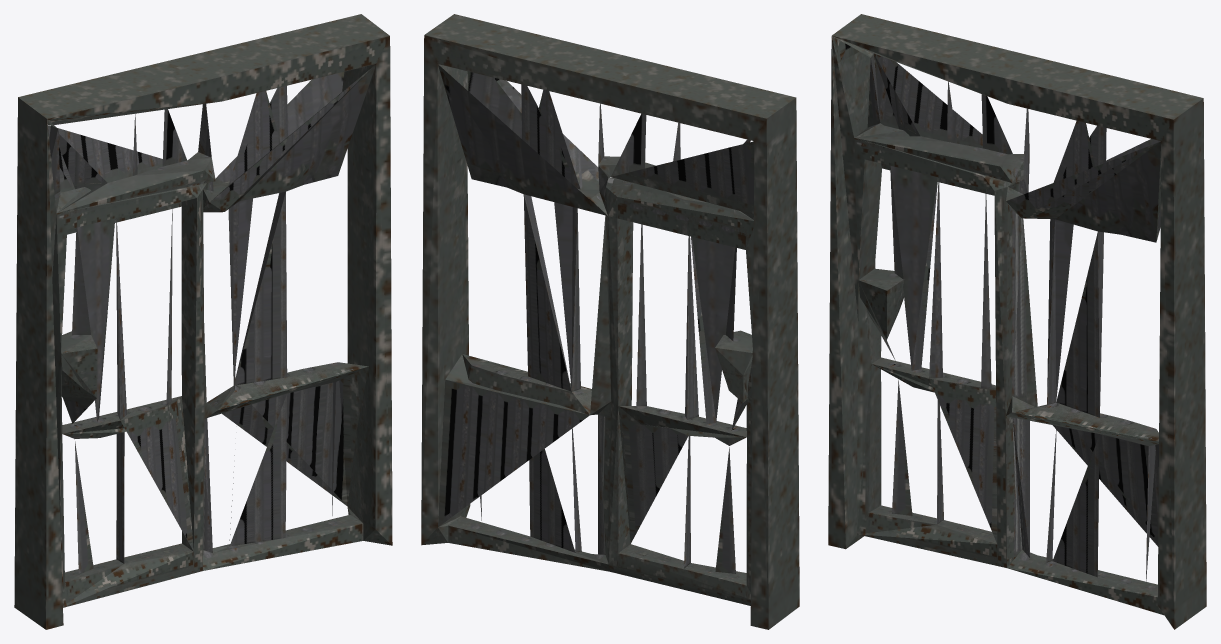
The model's file is Meshy_AI_model.glb.
3 views of the same model, side by side, from view 1: azimuth 30°, elevation 25°; view 2: azimuth 150°, elevation 25°; view 3: azimuth 330°, elevation 25° (orthographic).
Visible parts, largest first — view 1: output_unwrapped; view 2: output_unwrapped; view 3: output_unwrapped.
Part boxes in pixels (x1=…): output_unwrapped: x1=14, y1=14, x2=392, y2=629; output_unwrapped: x1=421, y1=14, x2=799, y2=629; output_unwrapped: x1=828, y1=14, x2=1206, y2=629.
Bounding box in the file's own units: 1.35 × 1.9 × 0.2149.
Materials: 1 (1 with a texture image).
